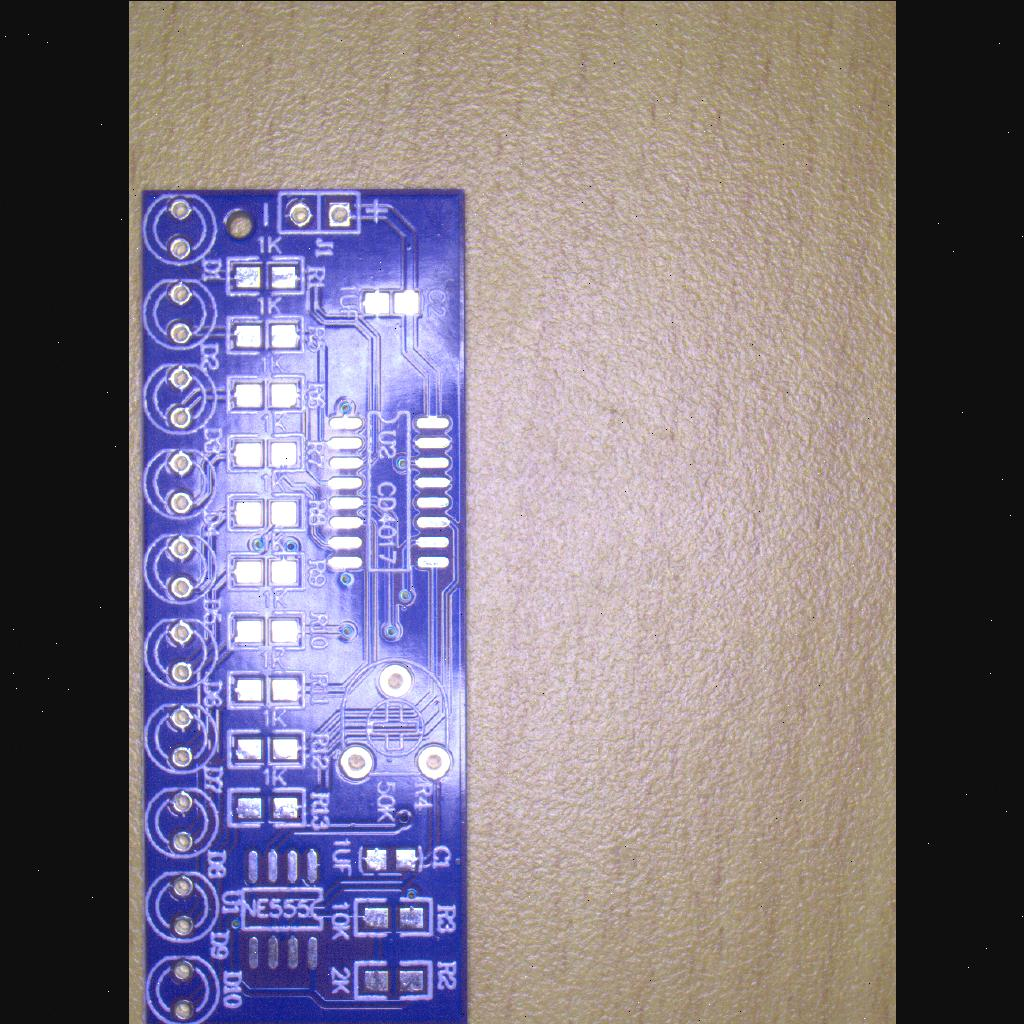NG: (316, 404, 456, 580), (228, 838, 330, 978), (220, 605, 314, 655), (348, 890, 438, 940), (223, 722, 307, 774), (222, 666, 308, 716), (221, 546, 307, 596), (348, 955, 436, 1003), (220, 782, 308, 830), (220, 370, 306, 418), (221, 250, 307, 298), (220, 311, 308, 357), (222, 487, 306, 535), (224, 429, 308, 475), (350, 840, 428, 880), (353, 282, 429, 322)
